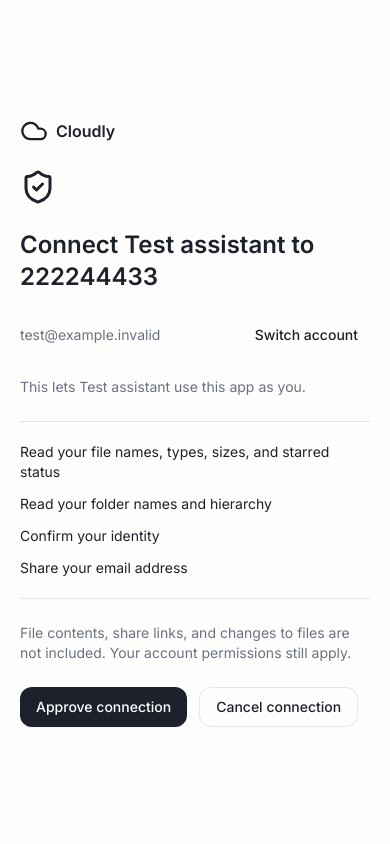
Test: OAuth consent decisions › submits approval for the exact authorization ID and reports failure
Click the button "Approve connection".
click(104, 707)  # box [20,687,187,727]
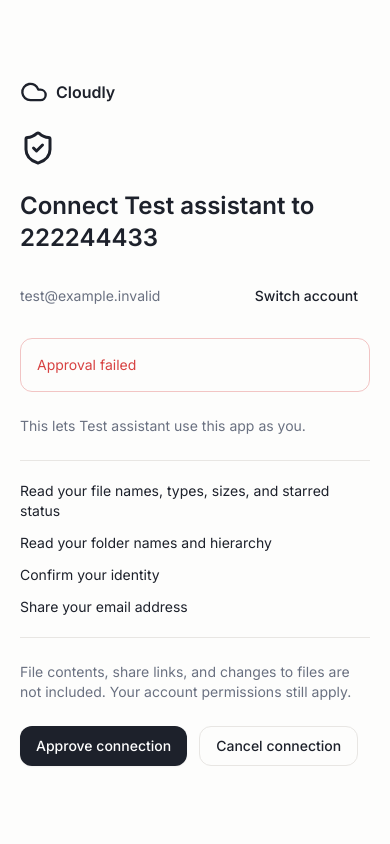
Check: the button "Approve connection" is enabled, box [20,726,187,766]
Check: the message "Approval failed" is shown, box [20,338,370,392]
